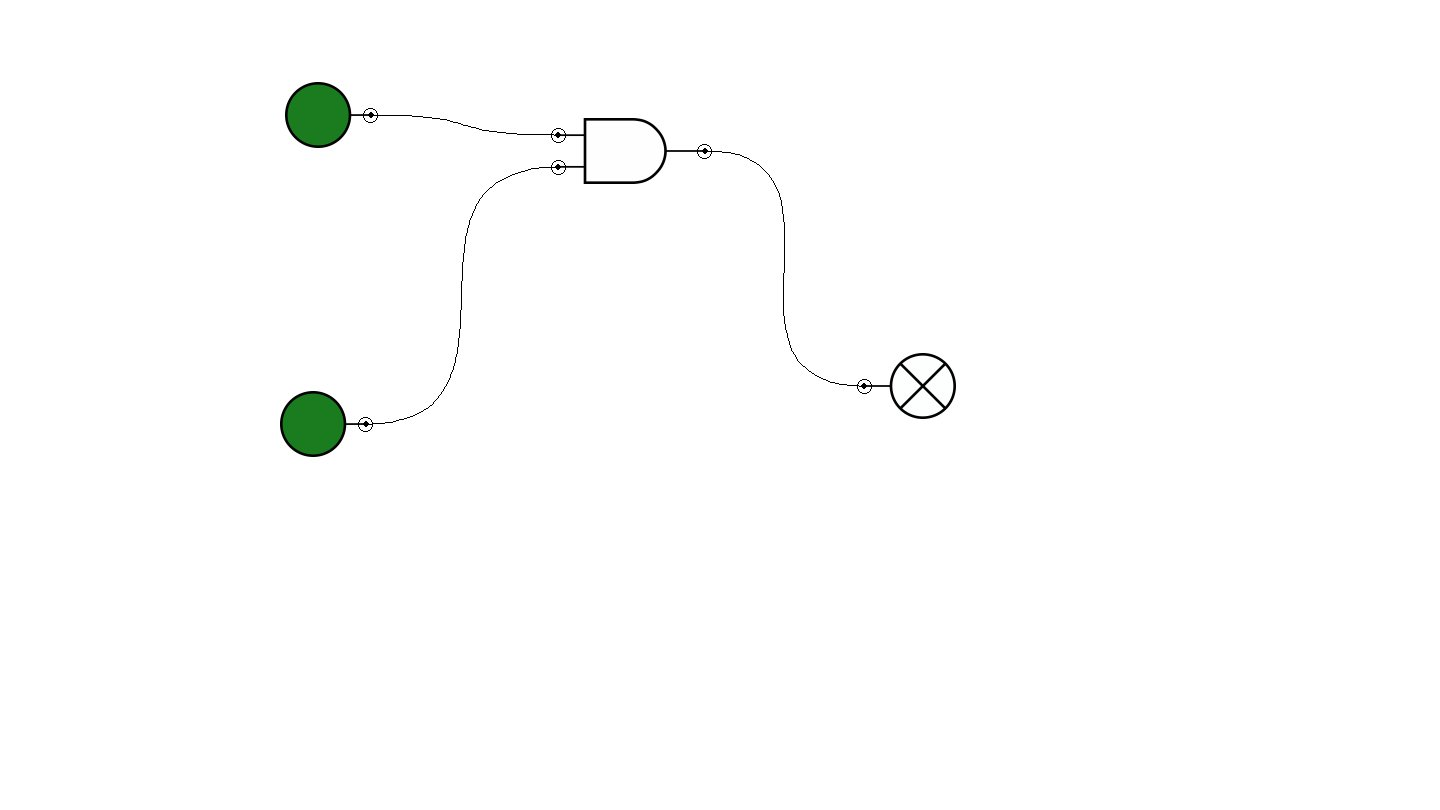and: (551, 118, 712, 184)
bulb: (857, 353, 956, 419)
switch_True: (285, 82, 378, 148), (280, 391, 373, 457)
